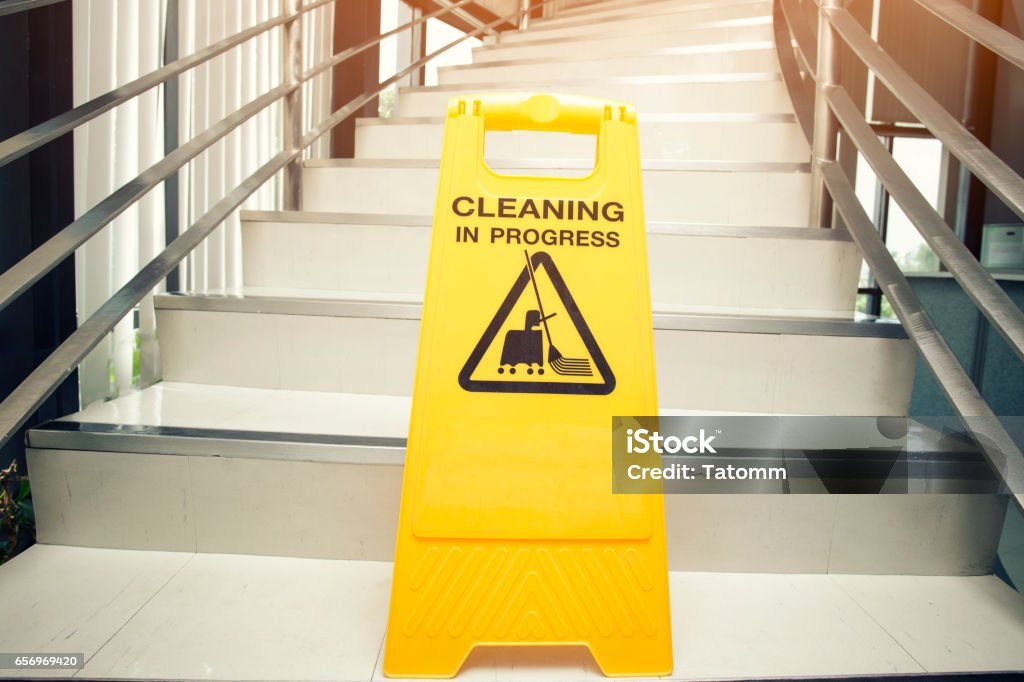wet caution sign: (369, 84, 696, 681)
